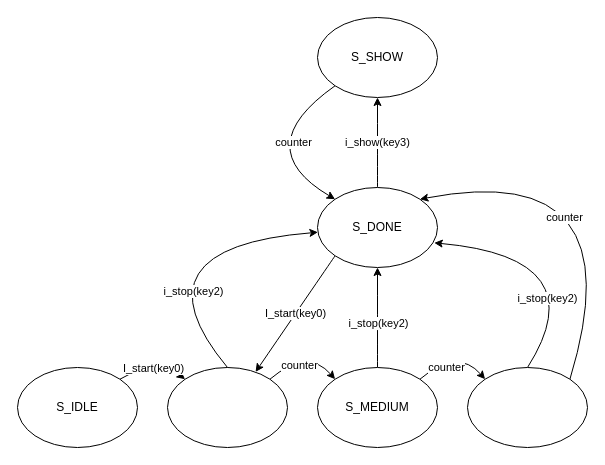
Some shapes in this 605 by 465 pixel diagram are drawn without their labels. The centre of each missing label's shape, as x and y in pixels:
"S_FAST" belongs at (227,407).
"S_SLOW" belongs at (527,407).
